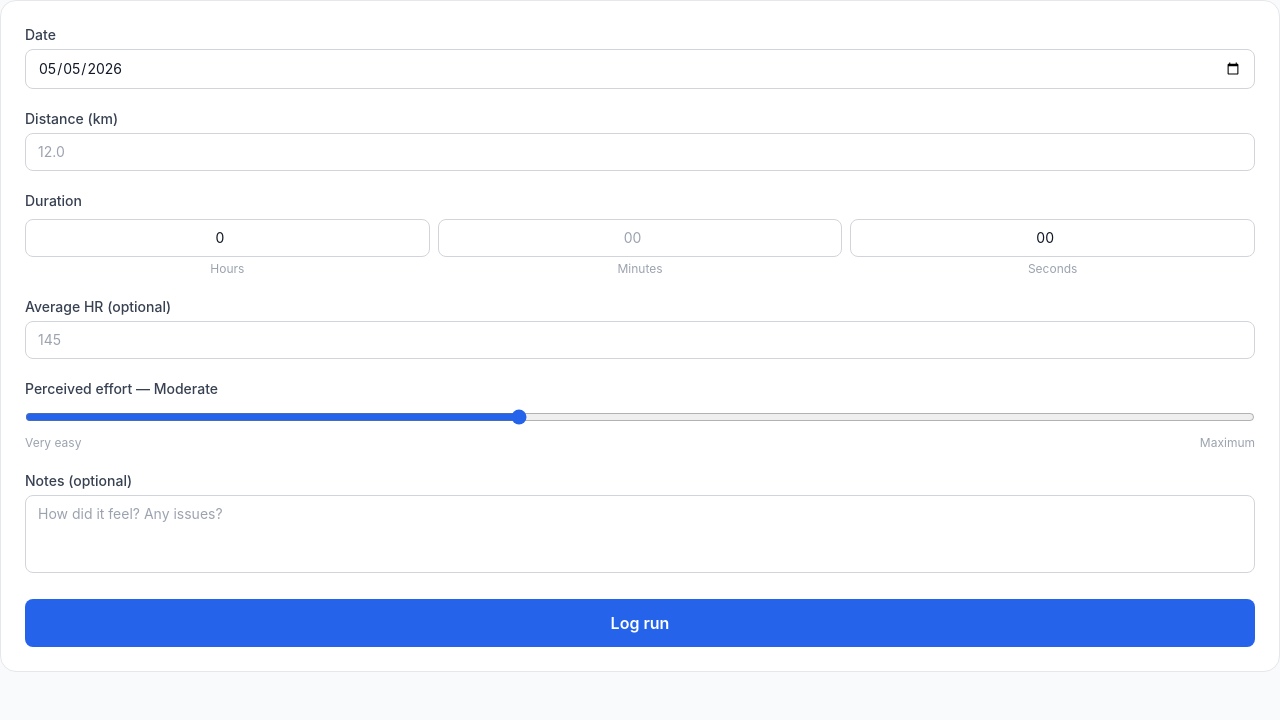
Test: shows validation error when distance missing
The width and height of the screenshot is (1280, 720).
Click the button "Log run" at coordinates (640, 623), box [25, 599, 1255, 647]
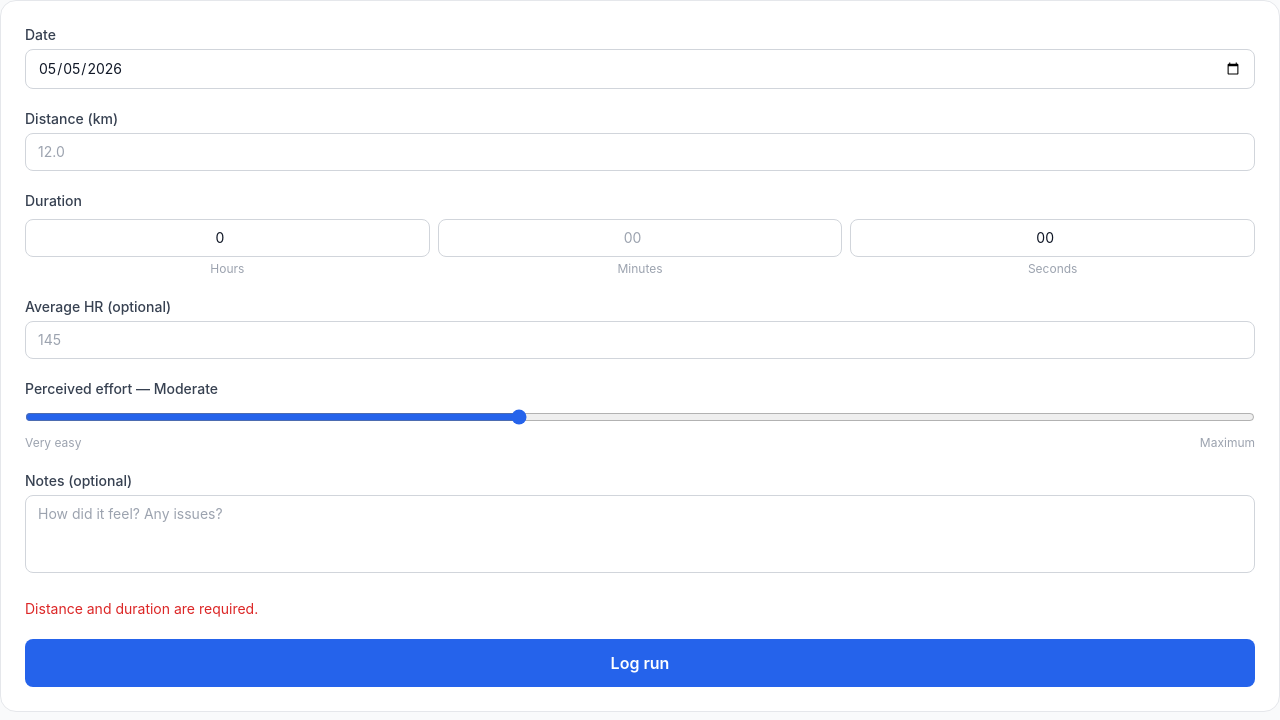
Now the text "Distance and duration are required." is shown, box [25, 600, 258, 617]
